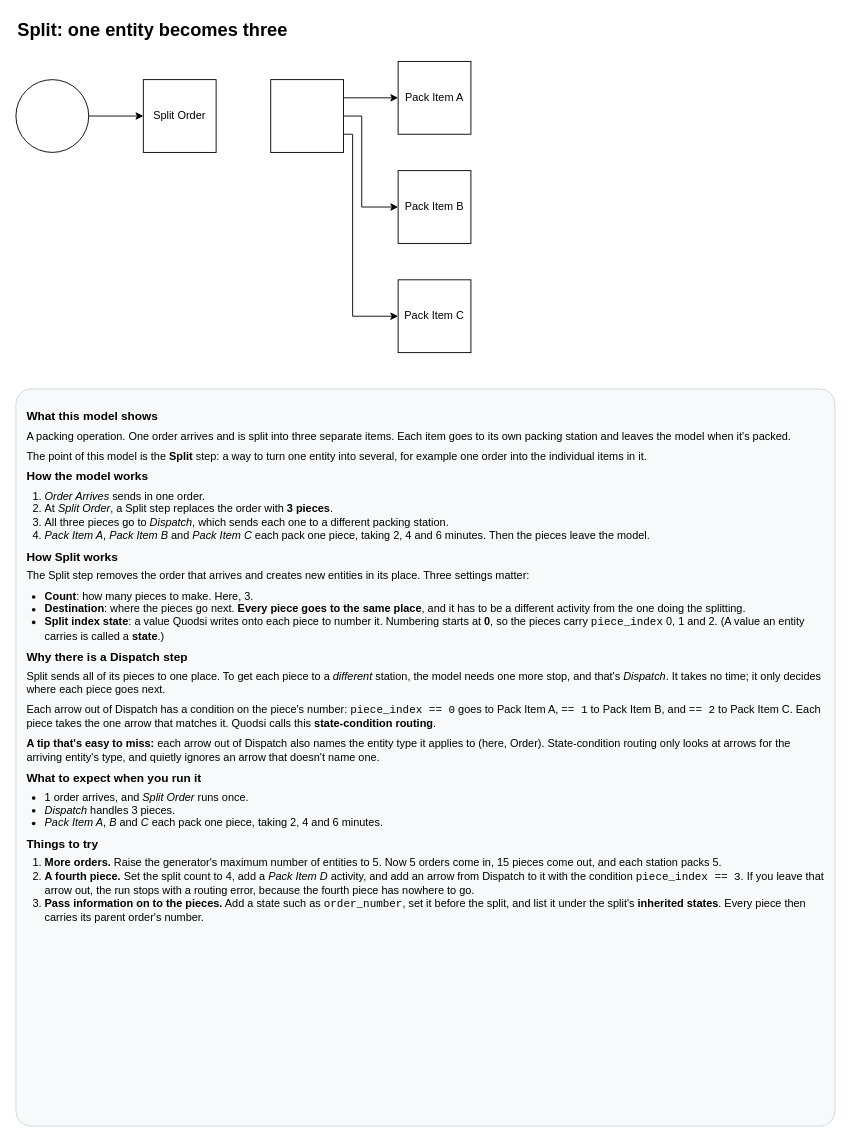
The diagram is 851 pixels wide and 1142 high, and some of its shapes have lost their labels. The centre of each missing label's shape, as x and y in pixels:
Dispatch: the point at 307,115
Order Arrives: the point at 52,115
